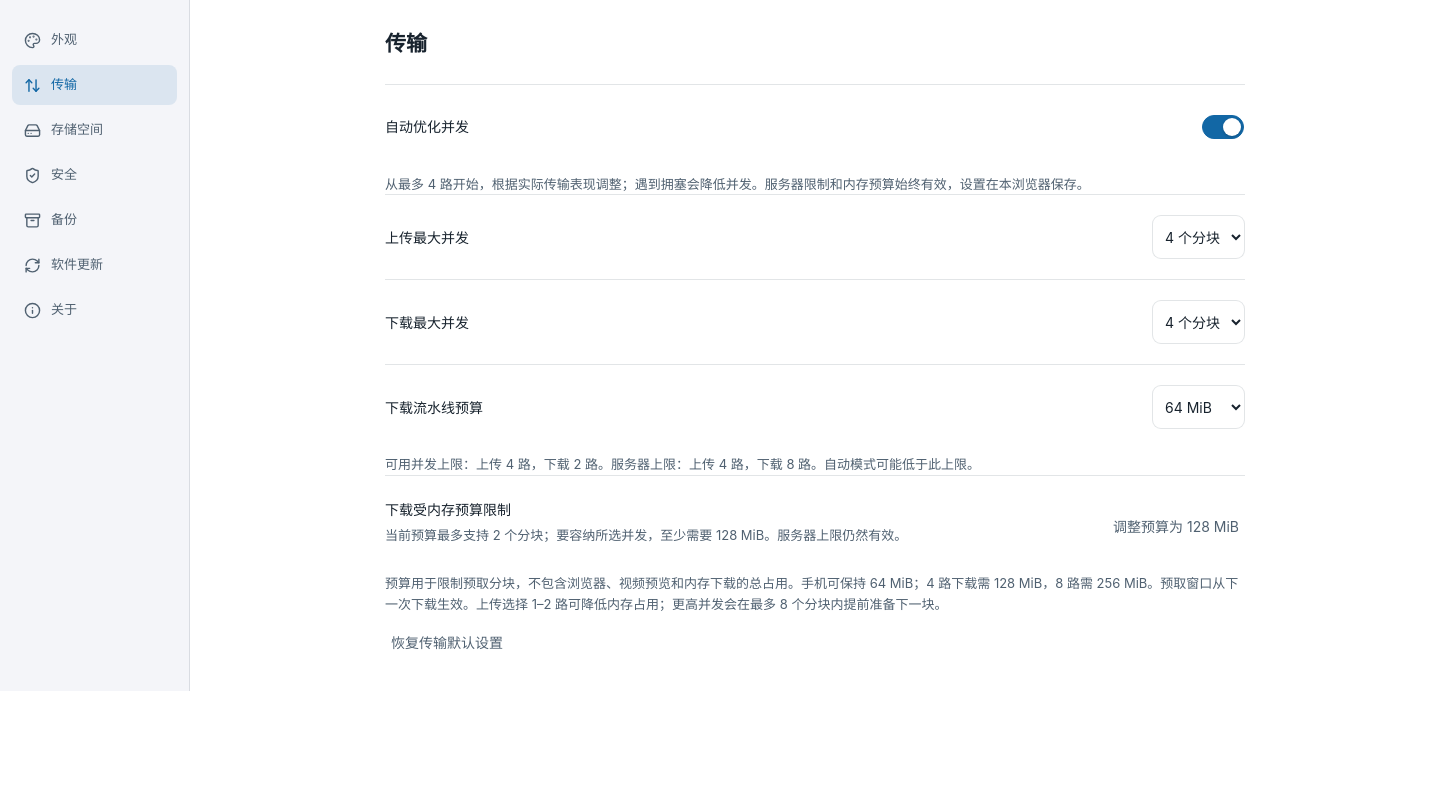
it: explains the two-slot memory ceiling and applies the requested budget without silently raising it
Expected: the message shows "上传 4 路，下载 2 路", [385, 456, 980, 472]
Click the button "调整预算为 128 MiB": point(1176, 526) [1107, 504, 1245, 548]
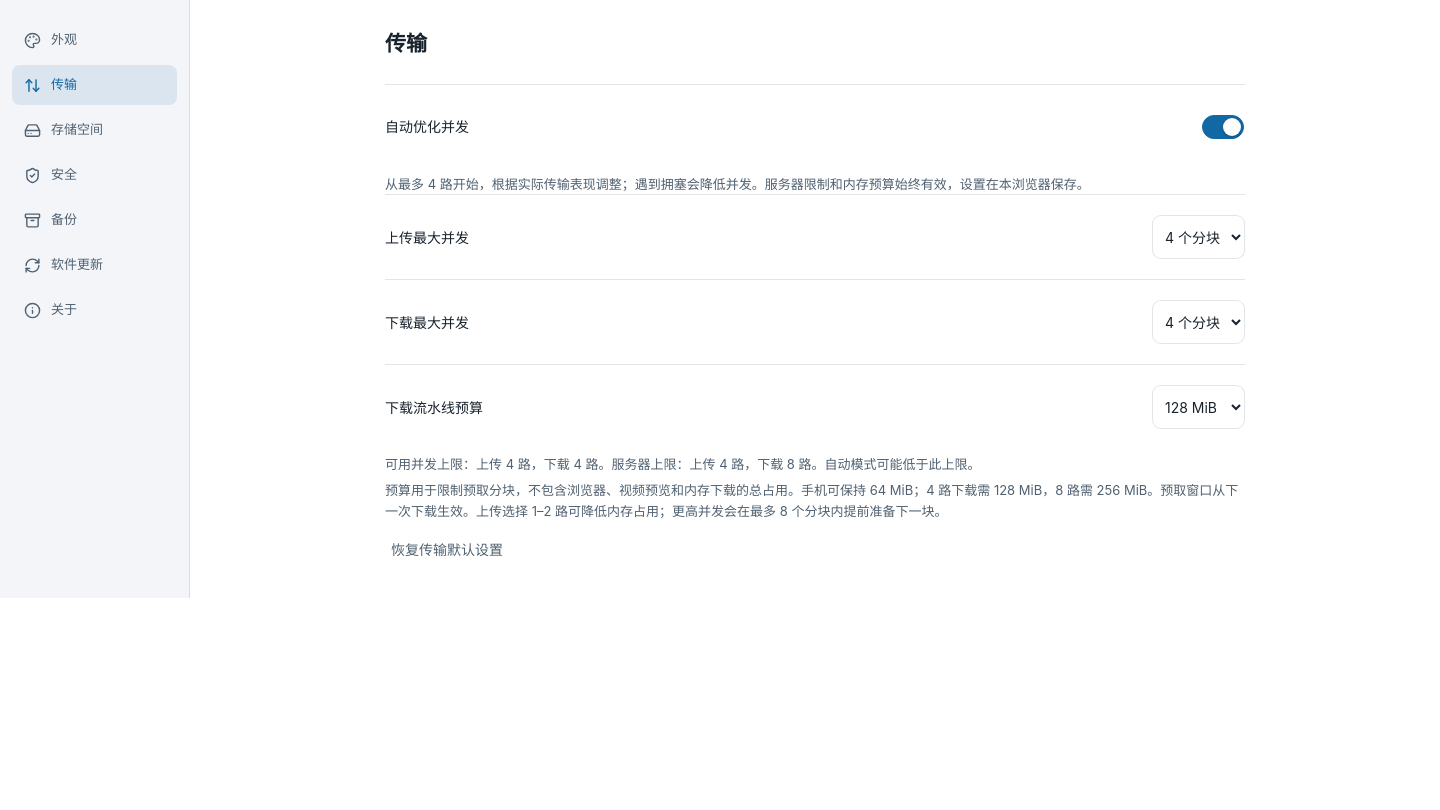
Result: the message shows "上传 4 路，下载 4 路" at [385, 456, 981, 472]
Select "8 个分块" in the dropdown labelled "下载最大并发": point(1198, 322) [1152, 300, 1245, 344]
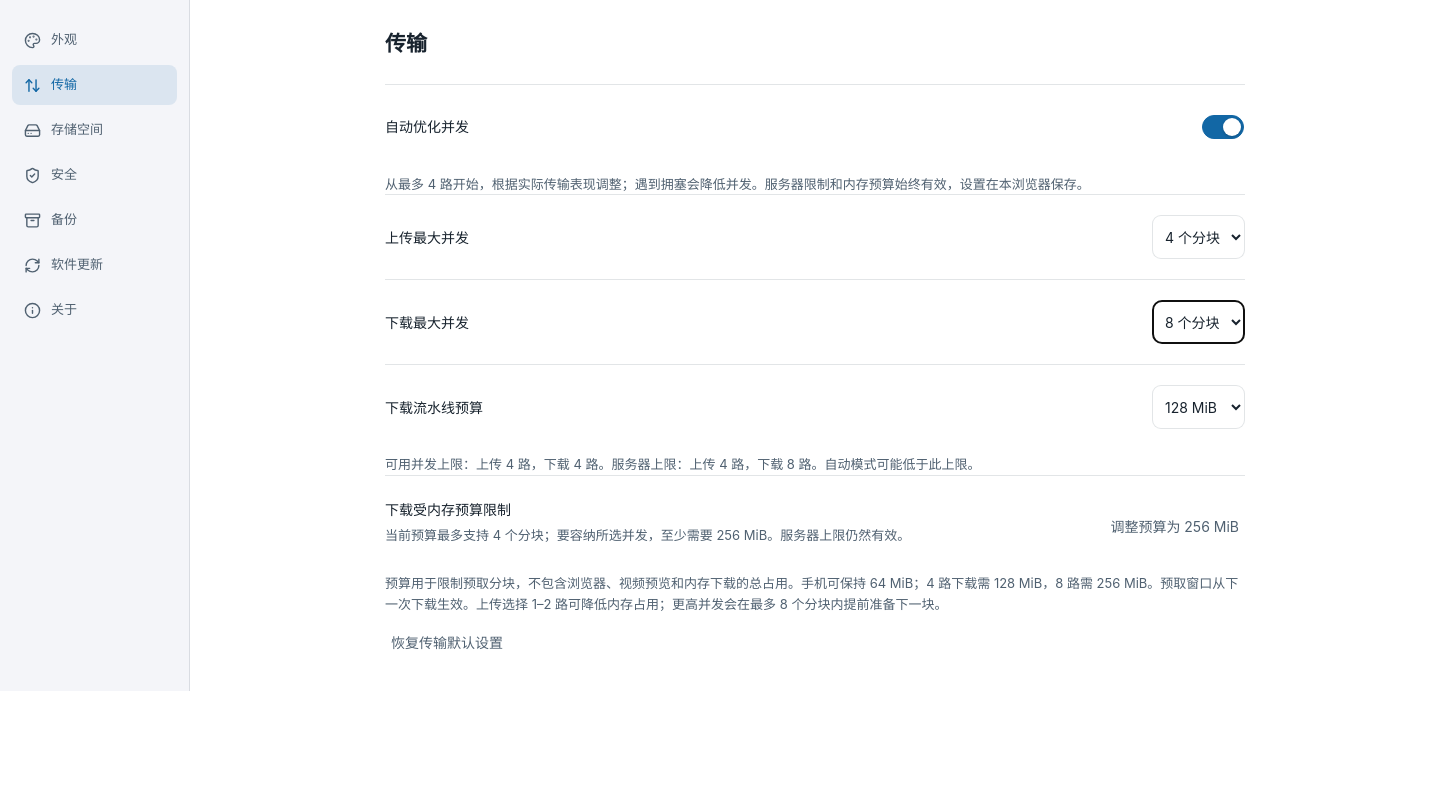
Click the button "调整预算为 256 MiB": point(1175, 526) [1104, 504, 1245, 548]
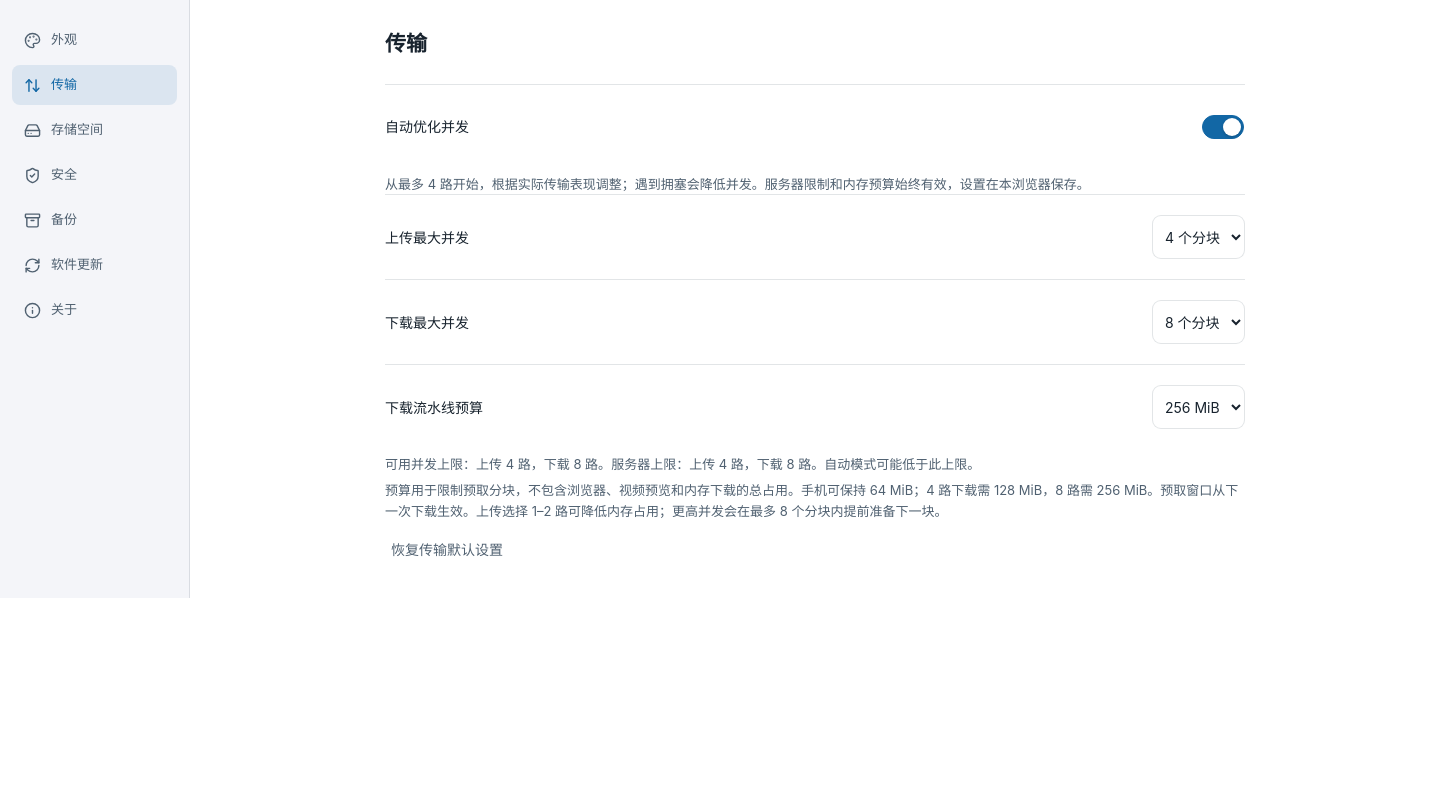
Expected: the message shows "下载 8 路", [611, 456, 824, 472]
Select "64 MiB" in the dropdown labelled "下载流水线预算": point(1198, 407) [1152, 385, 1245, 429]
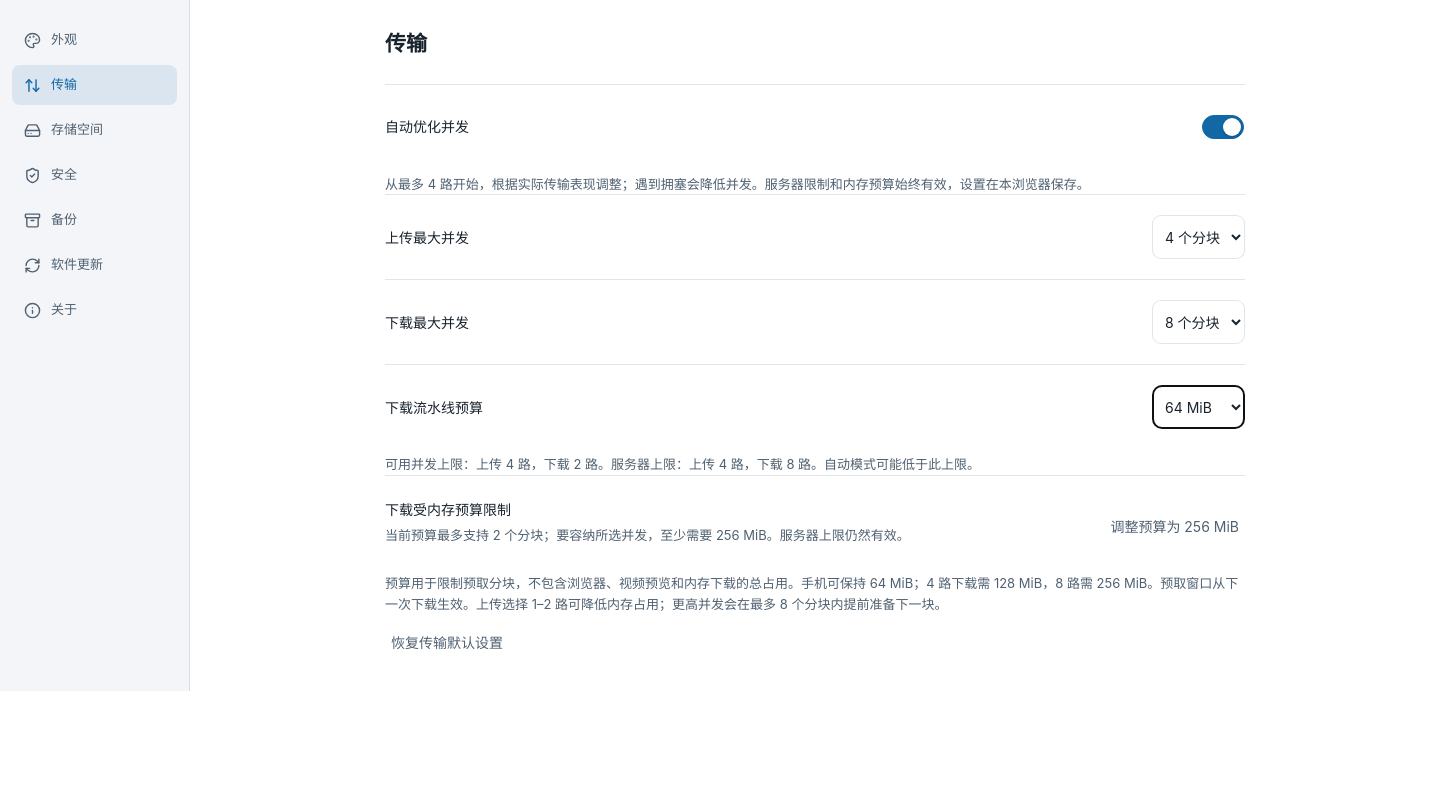
Result: the message shows "下载 2 路" at [385, 456, 980, 472]
